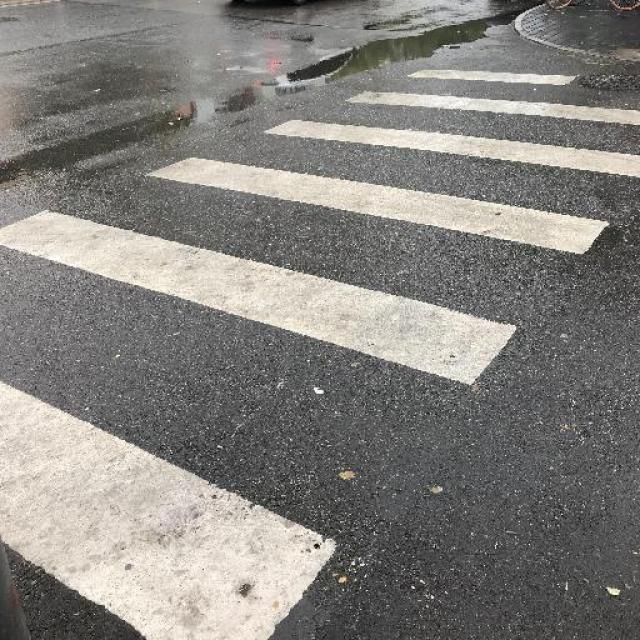crosswalk: (0, 65, 640, 640)
